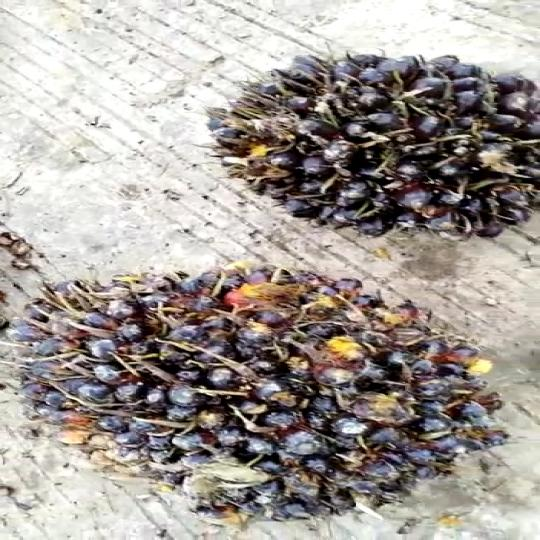mentah: (0, 243, 531, 534), (196, 49, 540, 251)
